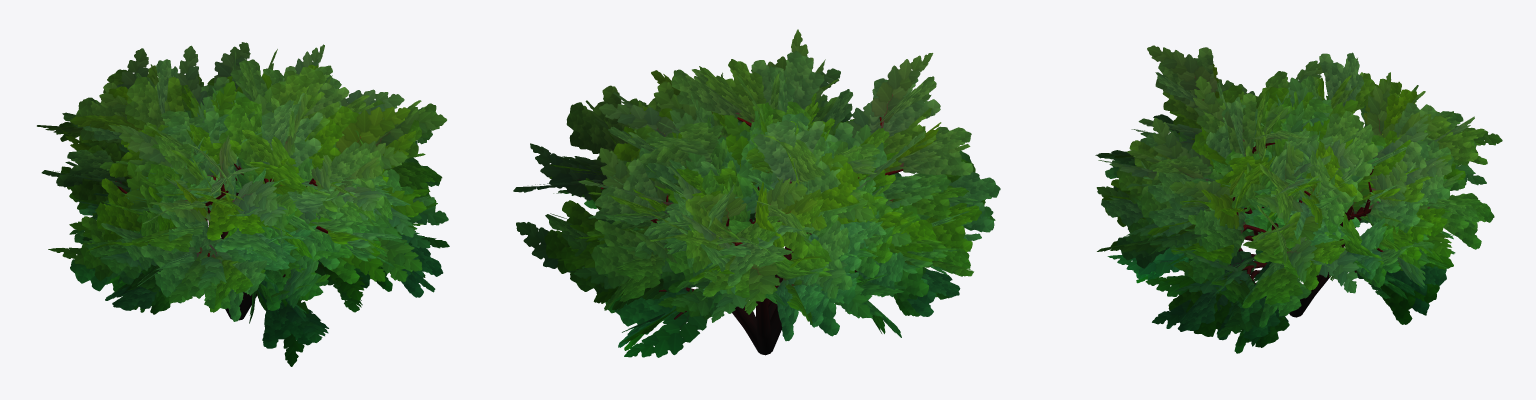
File: SM_Bush.gltf
3 views of the same model, side by side, from view 1: azimuth 30°, elevation 25°; view 2: azimuth 150°, elevation 25°; view 3: azimuth 270°, elevation 25° (orthographic). The views are drawn at different scales.
Visible parts, largest first — view 1: SM_Bush; view 2: SM_Bush; view 3: SM_Bush.
Boxes of the visible parts, <box> form: SM_Bush: <box>37,42,449,366</box>; SM_Bush: <box>513,29,1000,357</box>; SM_Bush: <box>1095,45,1502,353</box>.
Size of the model in its own units: 2.26 by 1.42 by 2.2.
2 materials, 2 textured.
